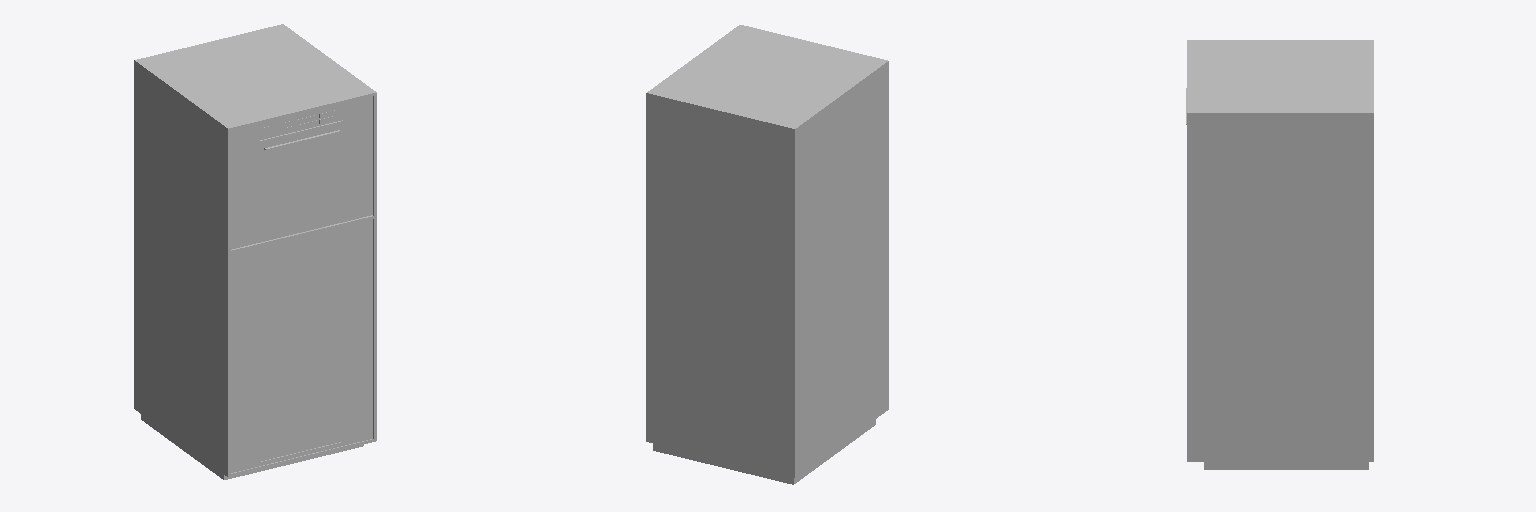
File: ibm_729.obj
3 renders of one model, left to right at view 1: azimuth 30°, elevation 25°; view 2: azimuth 150°, elevation 25°; view 3: azimuth 270°, elevation 25°, orthographic.
Visible parts, largest first — view 1: ibm_729; view 2: ibm_729; view 3: ibm_729.
Boxes of the visible parts, x1,y1,x2,y2 form: ibm_729: [134, 24, 376, 479]; ibm_729: [646, 25, 888, 484]; ibm_729: [1186, 40, 1373, 469].
Size of the model in its own units: 37.75 by 86.99 by 41.45.